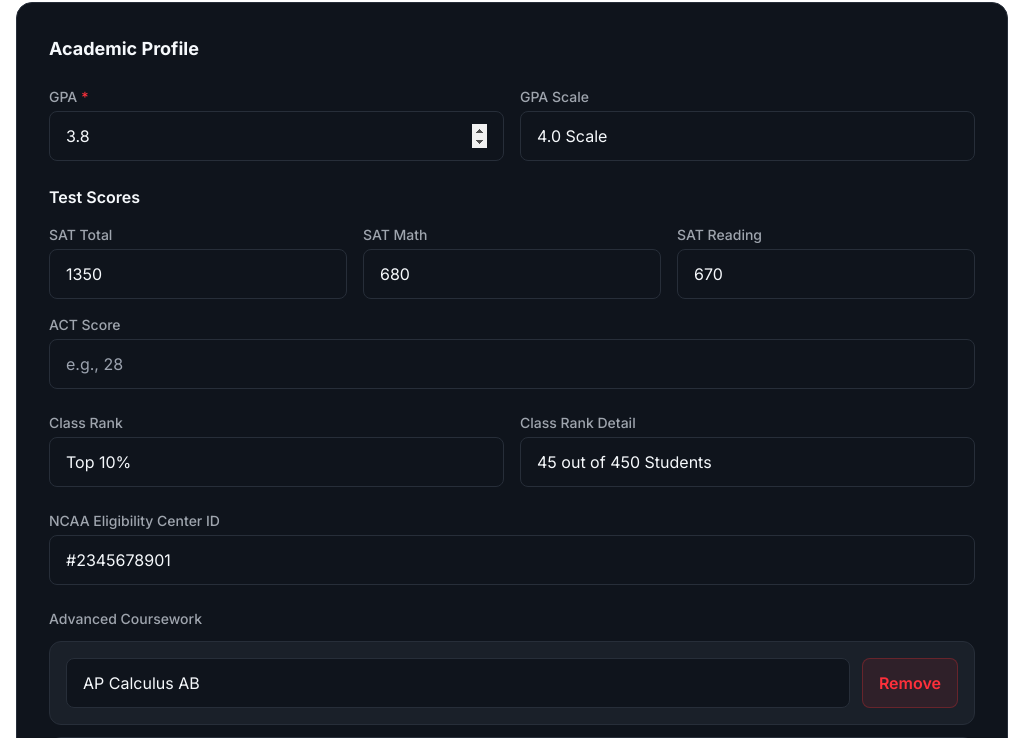
Test case: AcademicProfileSection - Inline Editing › Validation for GPA range (Requirements 4.1, 4.2, 4.3) › displays error when GPA is below 0.0 and save is clicked
# Directly set the value to bypass HTML5 validation
Replace the text in the number field labelled "GPA*" with "-1" at (276, 136), box [49,111,504,161]
(page scrolled)
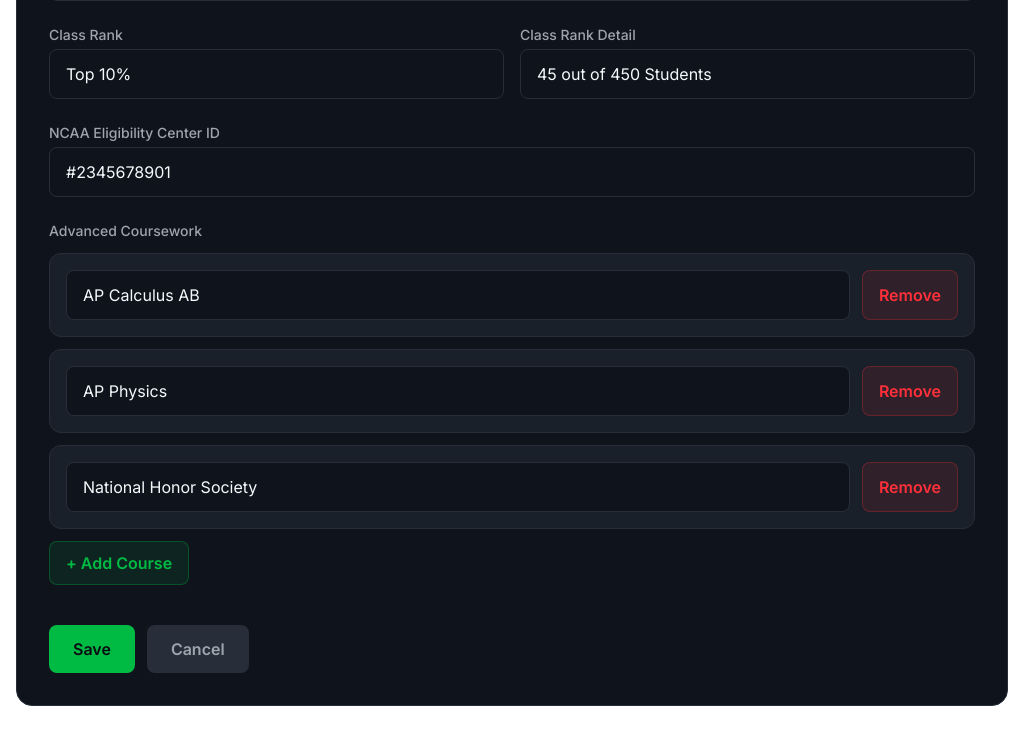
# Click save
Click the button "Save" at (92, 649), box [49,625,135,673]
(page scrolled)
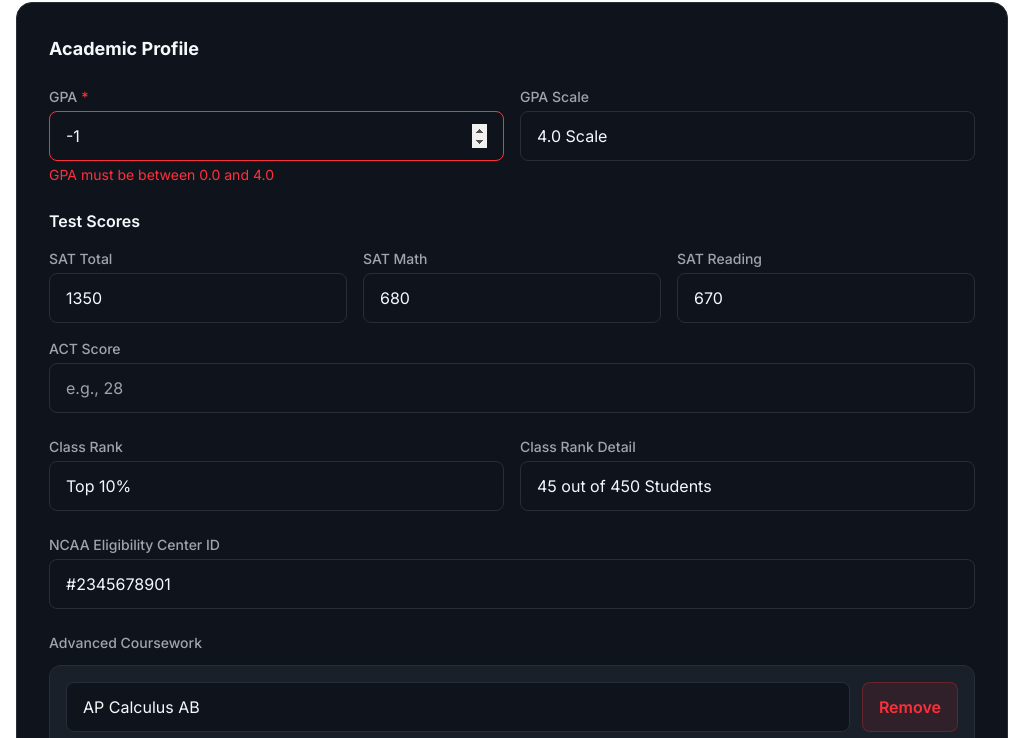
Expected: the text "GPA must be between 0.0 and 4.0" is shown, [49,166,274,183]
